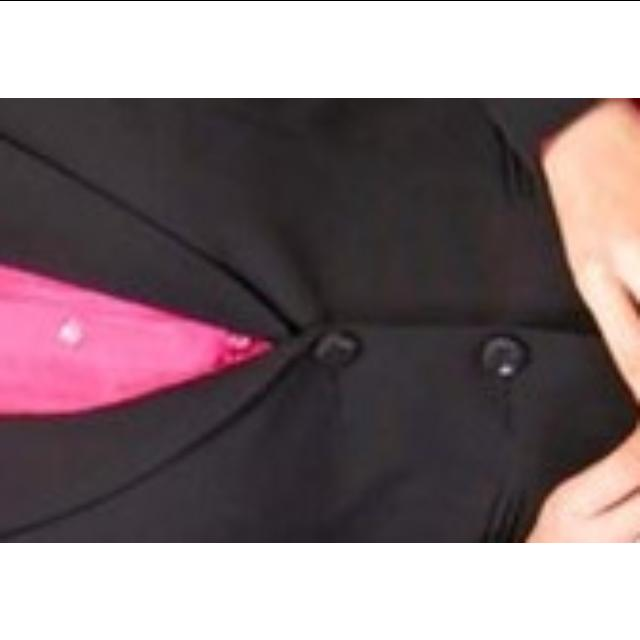polyester: (0, 98, 640, 542)
